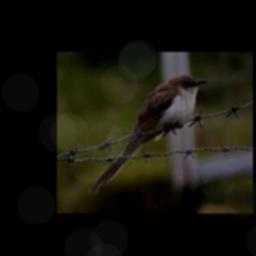Cuckoo: (87, 75, 208, 193)
